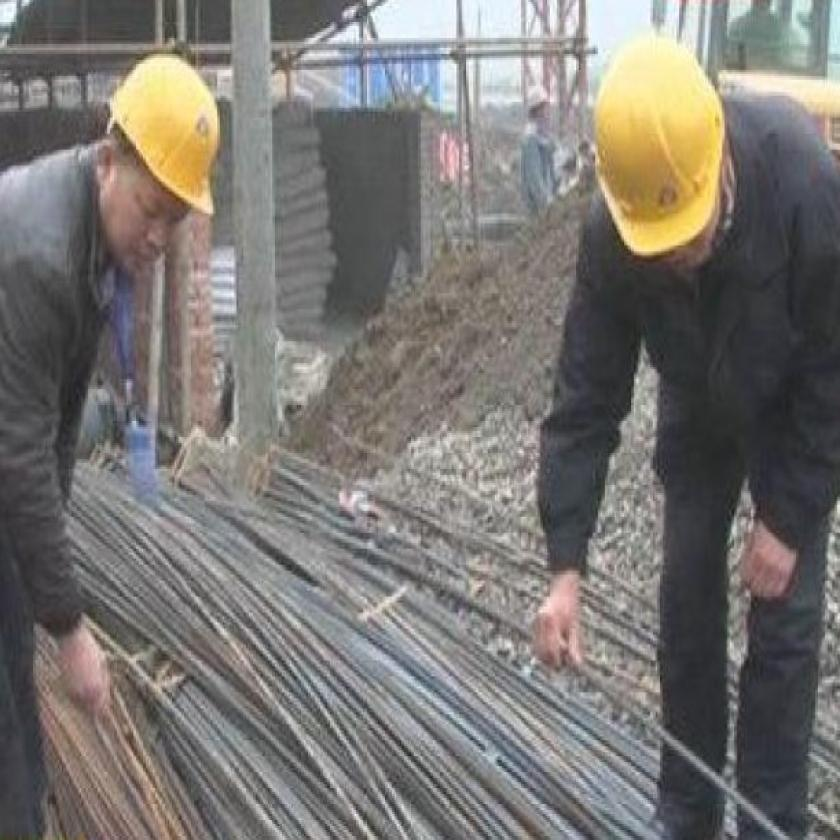Con_casco: (590, 30, 736, 283), (97, 55, 226, 310)
